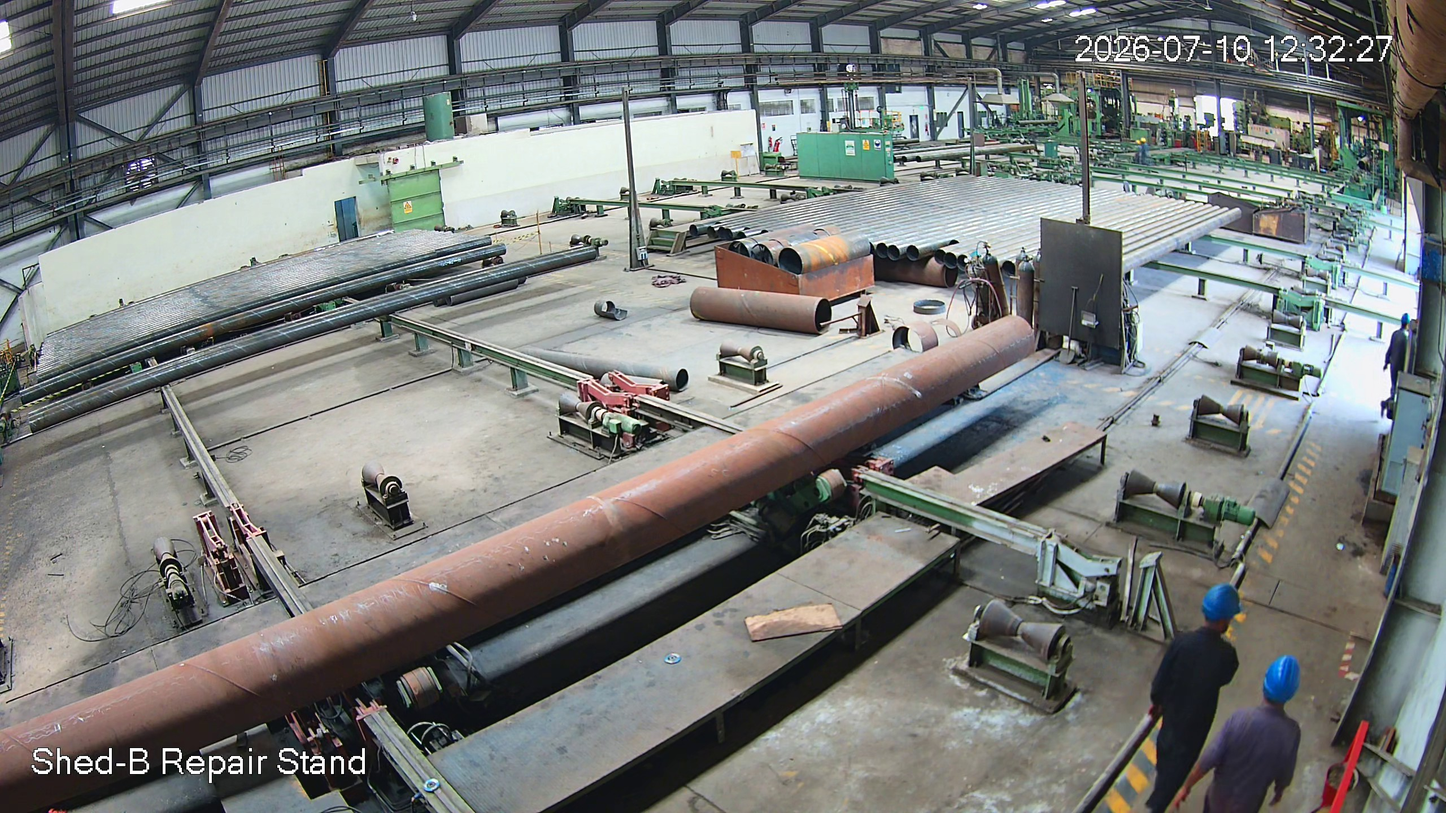Helmet: (1185, 570, 1254, 649), (1259, 642, 1309, 728)
Person: (1118, 581, 1255, 813), (1209, 649, 1308, 813)
